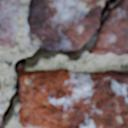brick: (18, 70, 127, 127), (0, 0, 20, 47), (0, 94, 2, 123)
broken_brick: (26, 0, 103, 49), (91, 0, 127, 56)
crack: (0, 0, 125, 127)
